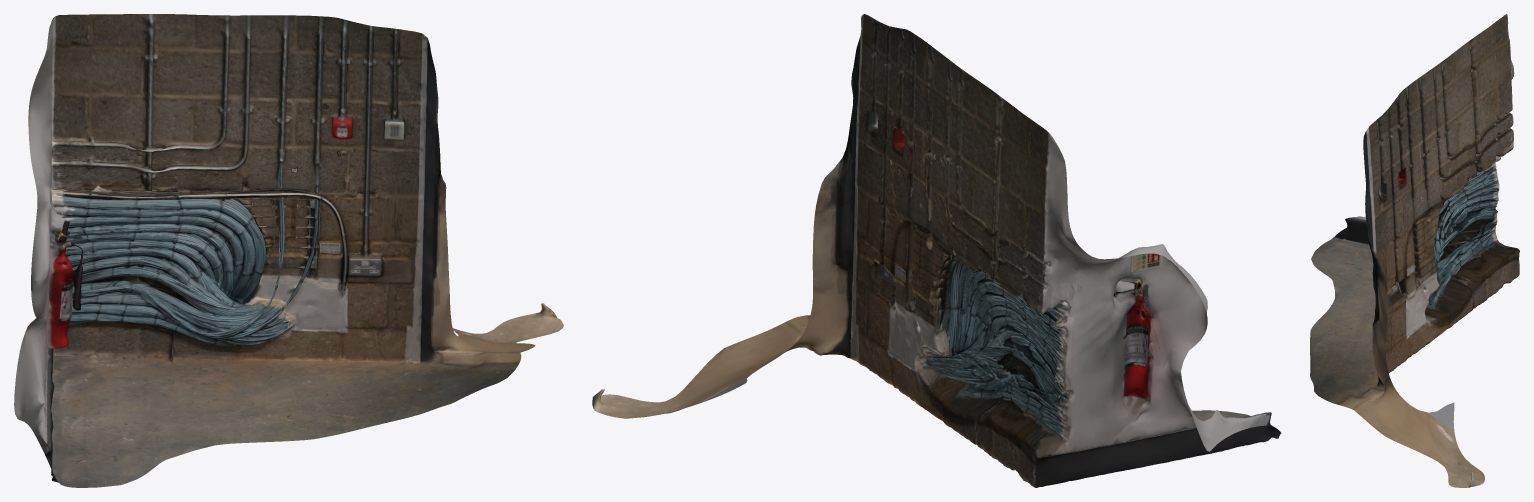
Rendered from Ethernet cablesNew-aBYqwVPB.glb.
The picture shows the model from 3 angles, left to right: view 1: azimuth 30°, elevation 25°; view 2: azimuth 150°, elevation 25°; view 3: azimuth 270°, elevation 25°; orthographic projection. The views are drawn at different scales.
Parts seen in each view (by area): view 1: Ethernet_bundle_Brookes.001; view 2: Ethernet_bundle_Brookes.001; view 3: Ethernet_bundle_Brookes.001.
Part boxes in pixels (x1,y1,x2,y2): Ethernet_bundle_Brookes.001: [14, 14, 563, 487]; Ethernet_bundle_Brookes.001: [592, 14, 1281, 487]; Ethernet_bundle_Brookes.001: [1310, 14, 1519, 487].
Size of the model in its own units: 42.36 by 27.58 by 17.35.
Materials: 1 (1 with a texture image).
